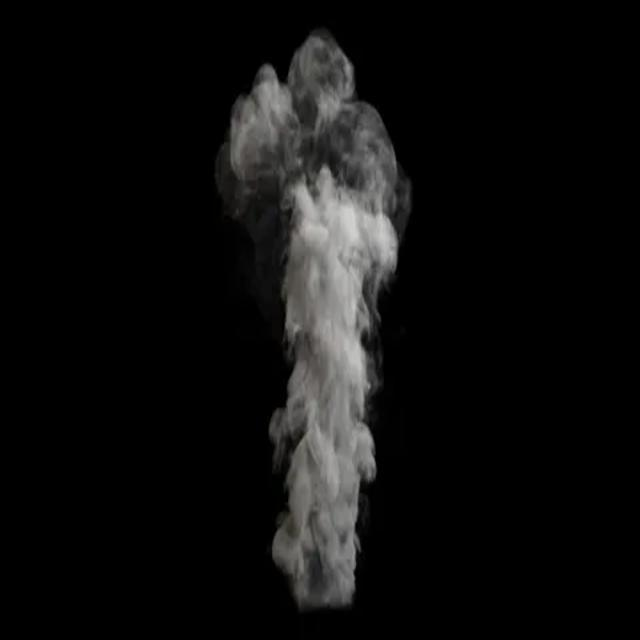Smoke: (228, 34, 404, 606)
